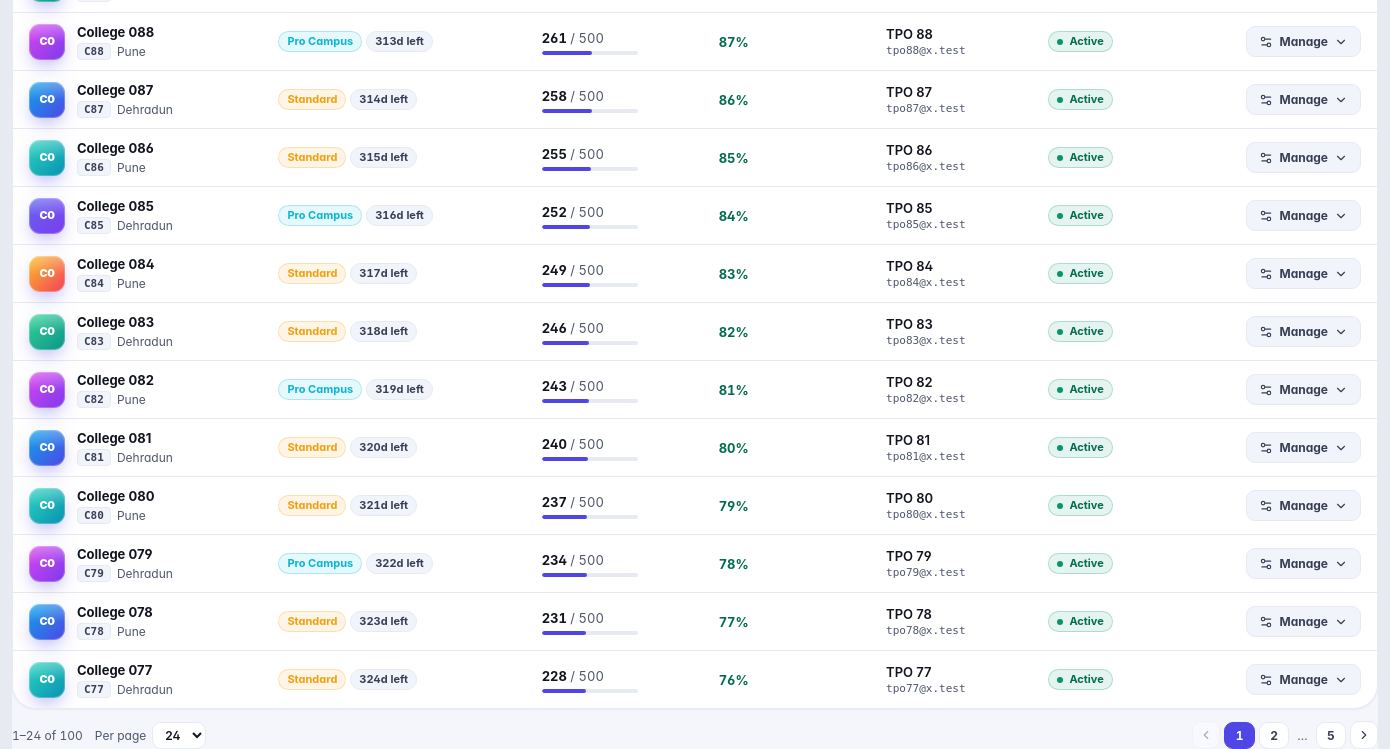
it: a hundred colleges › pages forward and back, and changes the page size (remembered for next time)
(page scrolled)
Click the button named "Next page": (1364, 735) 1350,721 -> 1378,748
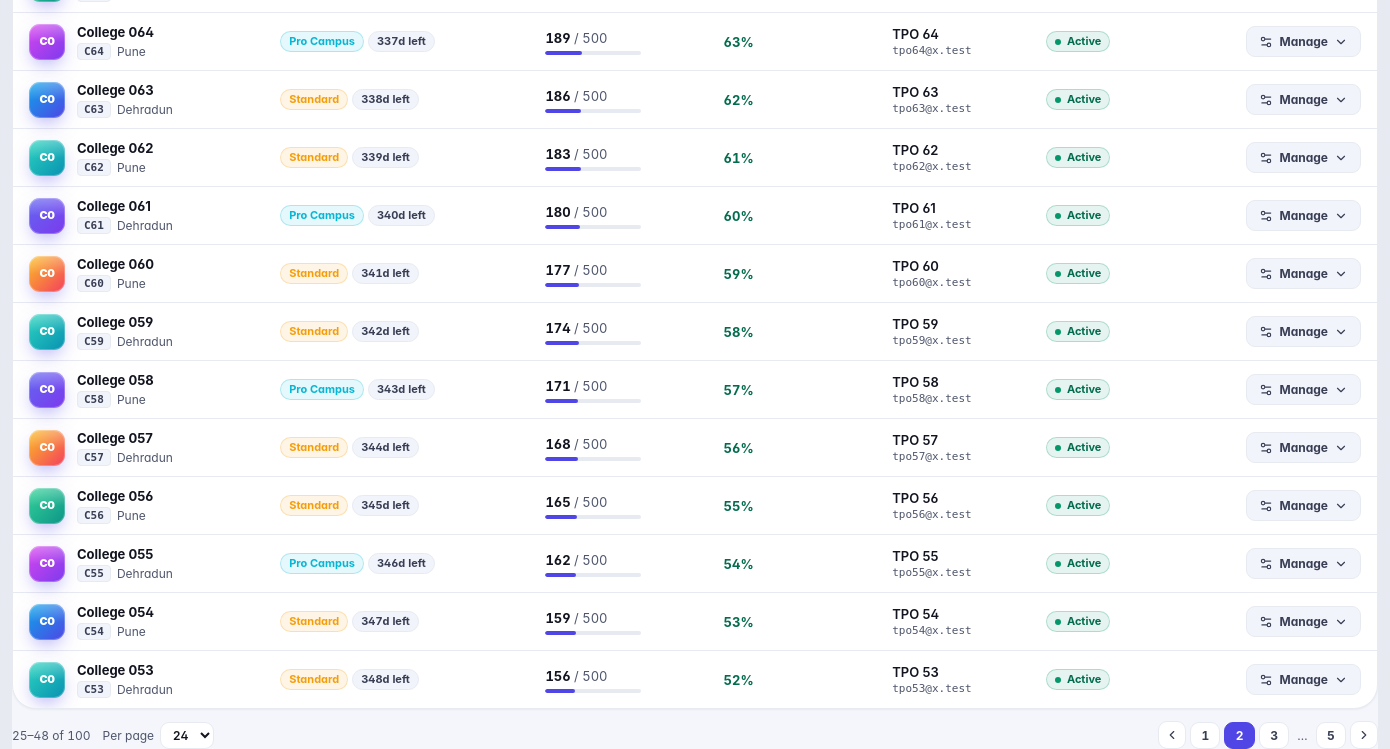
Now the text "25–48 of 100" is shown, box 12,726 -> 91,744
Select "48" in the dropdown labelled "Per page": (187, 735) 160,722 -> 214,748
(page scrolled)
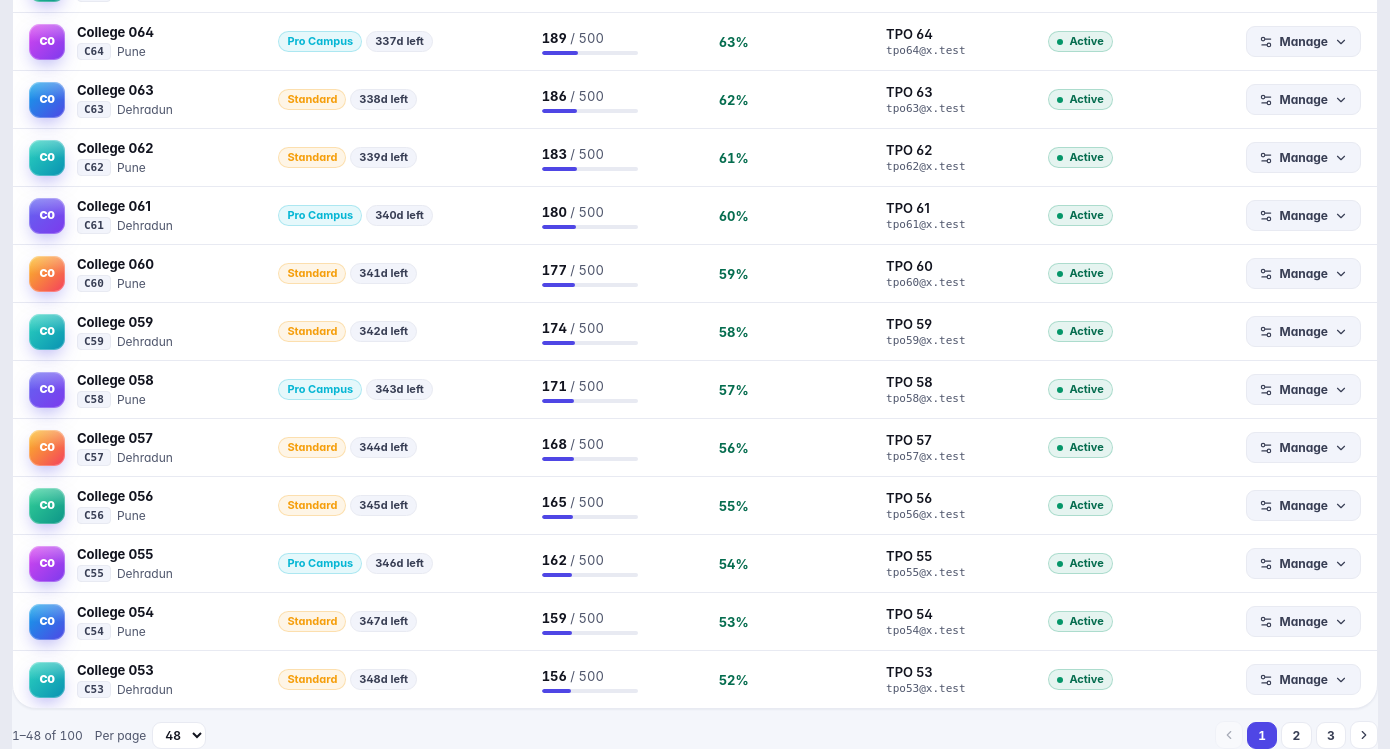
Now the text "1–48 of 100" is shown, box 12,726 -> 83,744
